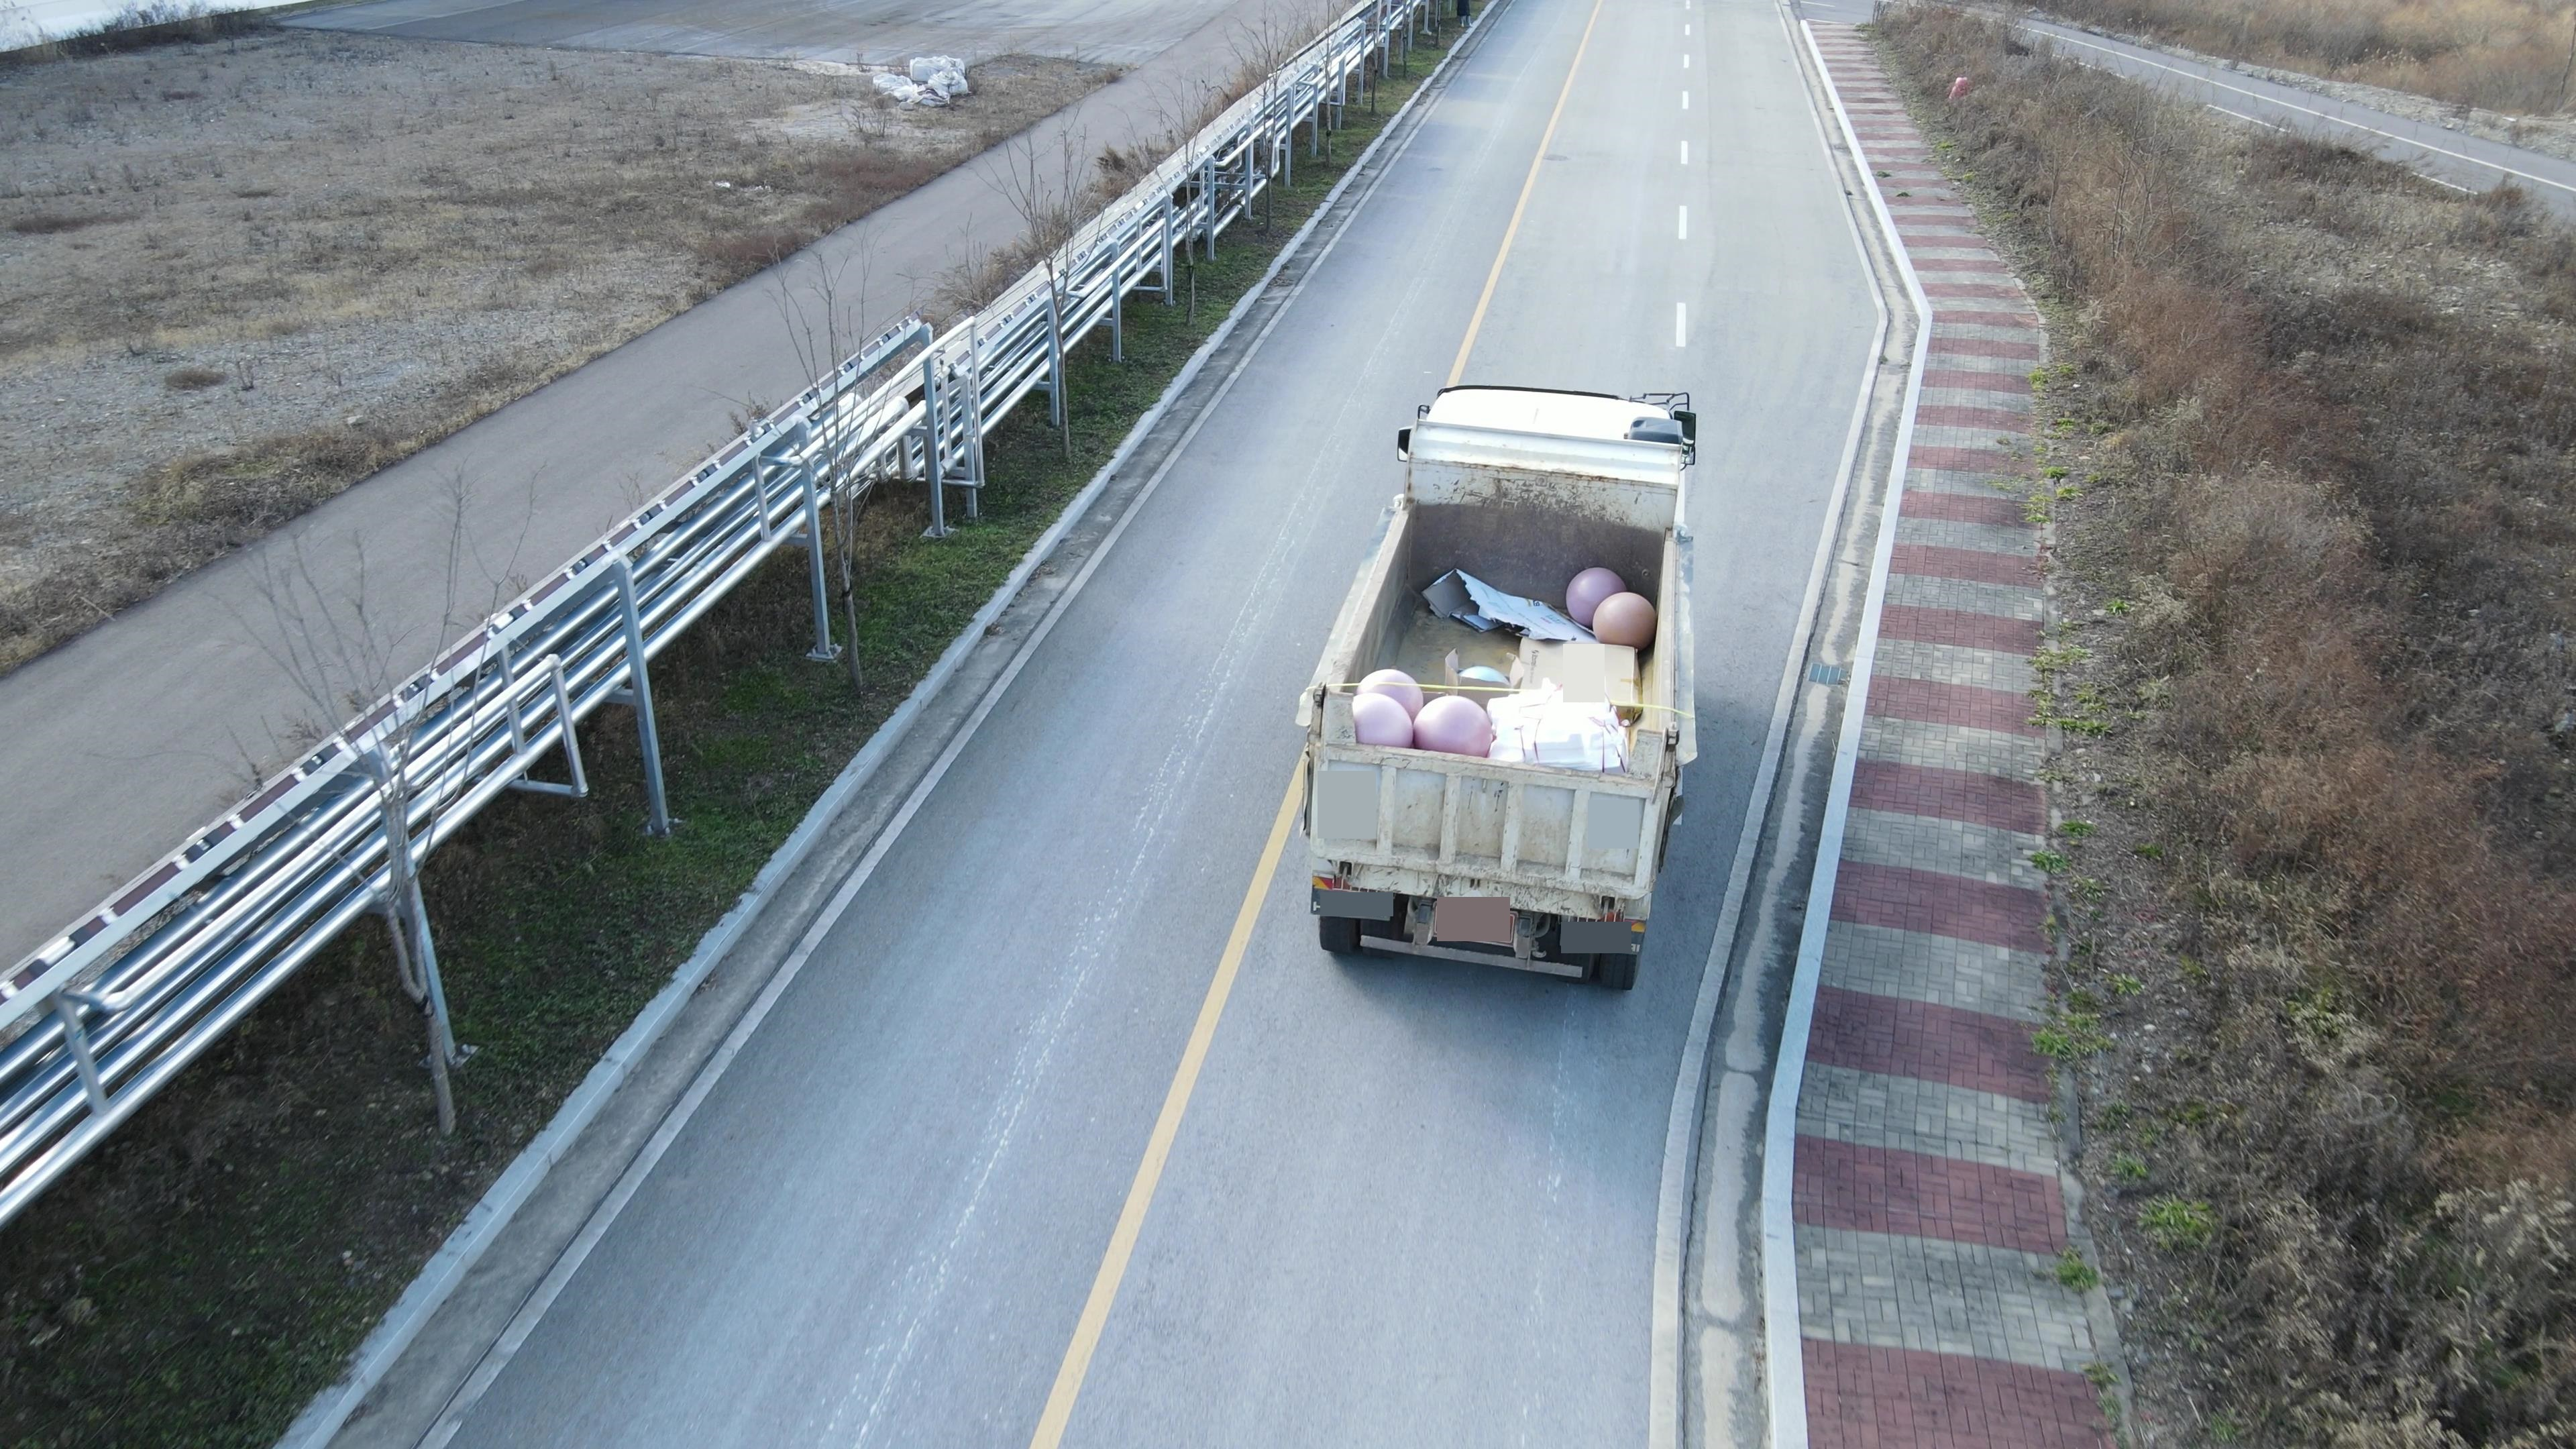불법차량: (1295, 386, 1697, 991)
